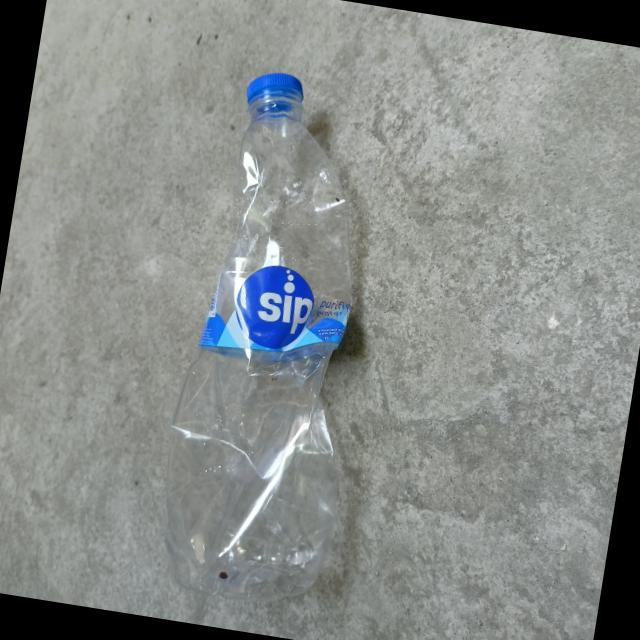Bottle: (167, 69, 365, 610)
